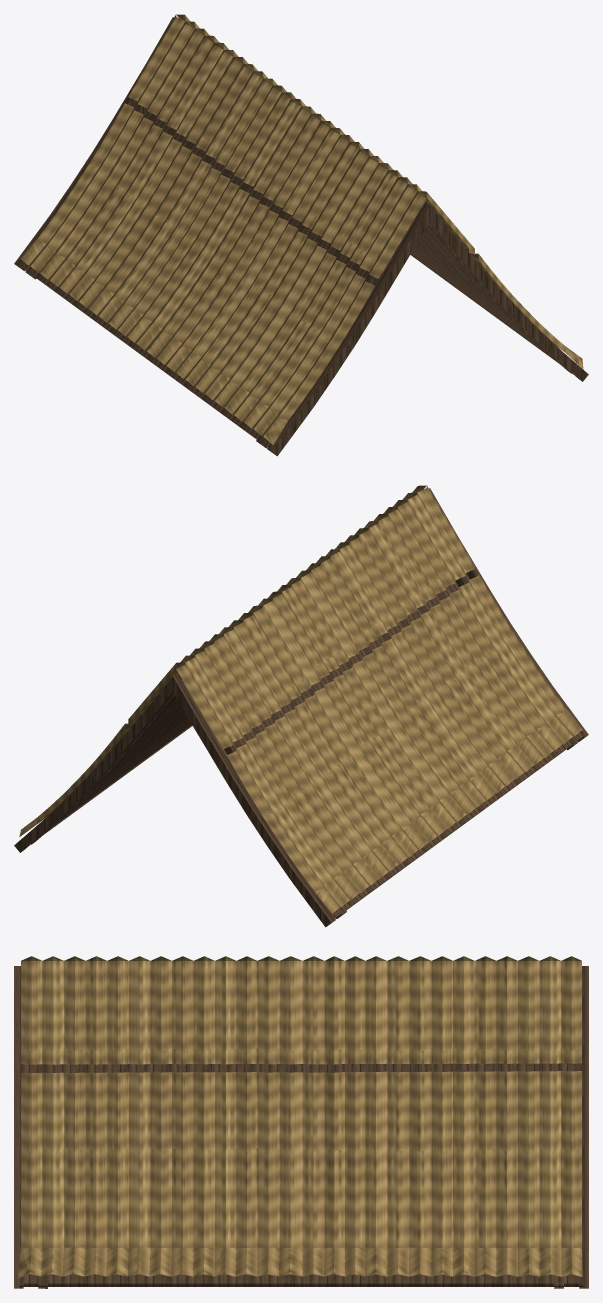
The model's file is Roof_Thatch_8x12.gltf.
3 views of the same model, one above another, from view 1: azimuth 30°, elevation 25°; view 2: azimuth 150°, elevation 25°; view 3: azimuth 270°, elevation 25° (orthographic). The views are drawn at different scales.
Parts seen in each view (by area): view 1: Roof_Thatch_8x12; view 2: Roof_Thatch_8x12; view 3: Roof_Thatch_8x12.
Boxes of the visible parts, x1=… form: Roof_Thatch_8x12: x1=14, y1=14, x2=588, y2=456; Roof_Thatch_8x12: x1=14, y1=485, x2=588, y2=927; Roof_Thatch_8x12: x1=14, y1=956, x2=588, y2=1288.
Size of the model in its own units: 9.95 by 6.58 by 13.89.
2 materials, 2 textured.
